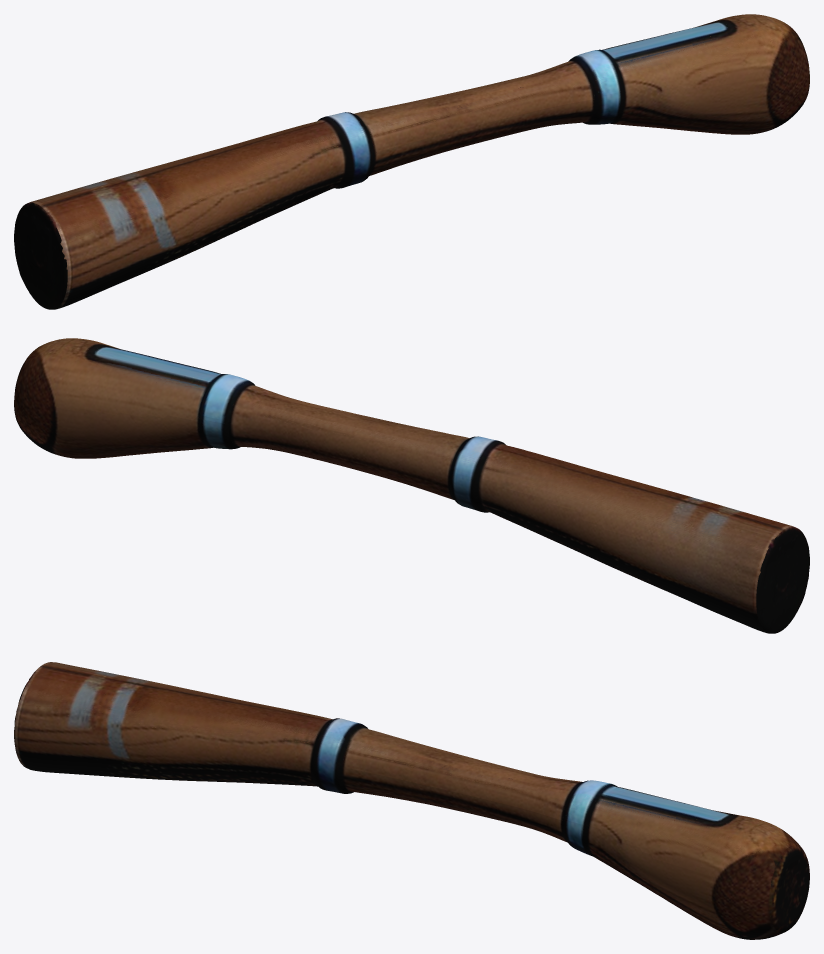
Rendered from source-11.glb.
3 views of the same model, one above another, from view 1: azimuth 30°, elevation 25°; view 2: azimuth 150°, elevation 25°; view 3: azimuth 330°, elevation 25° (orthographic).
Visible parts, largest first — view 1: tmpjppf3lfo.ply; view 2: tmpjppf3lfo.ply; view 3: tmpjppf3lfo.ply.
Part boxes in pixels (left/top/right/bottom): tmpjppf3lfo.ply: left=14, top=14, right=809, bottom=309; tmpjppf3lfo.ply: left=14, top=338, right=809, bottom=633; tmpjppf3lfo.ply: left=14, top=662, right=809, bottom=939.
Bounding box in the file's own units: 1.96 × 0.2902 × 0.249.
Materials: 1 (1 with a texture image).
